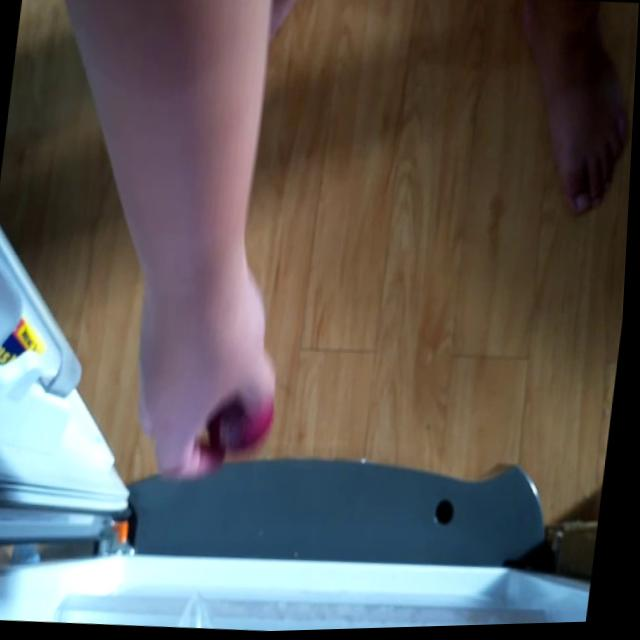onion: (203, 381, 287, 467)
